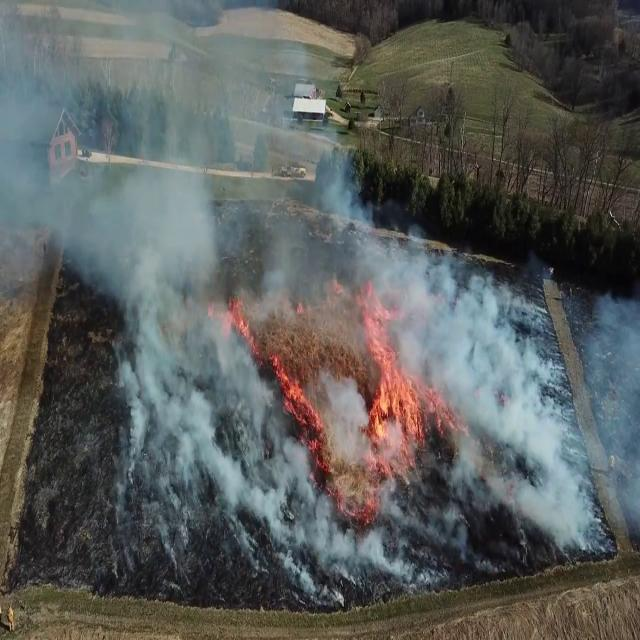Fire: (226, 294, 346, 476), (353, 269, 427, 470)
Smoke: (0, 4, 400, 578), (402, 227, 640, 576)
